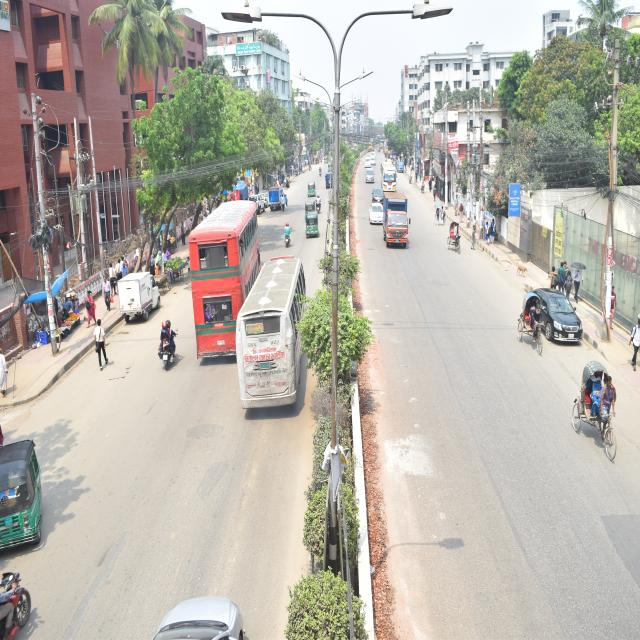bus: (185, 196, 263, 390), (234, 250, 308, 432), (380, 154, 404, 204)
car: (514, 268, 640, 387), (121, 570, 276, 640), (526, 253, 592, 382), (367, 193, 386, 228), (362, 164, 378, 188)
motorbike: (1, 542, 40, 640), (153, 309, 184, 400), (275, 212, 297, 251), (315, 190, 327, 222), (316, 161, 327, 189)
pickup-van: (114, 265, 178, 321), (264, 182, 292, 222)
truck: (383, 186, 419, 266)
